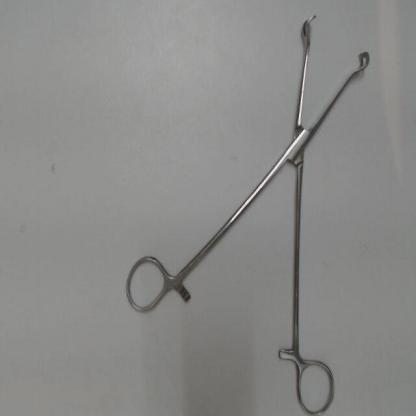8 Babcock Tissue Forceps: (118, 2, 374, 413)
